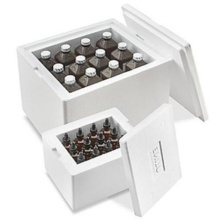foam_box: (12, 0, 214, 141), (37, 99, 186, 220)
